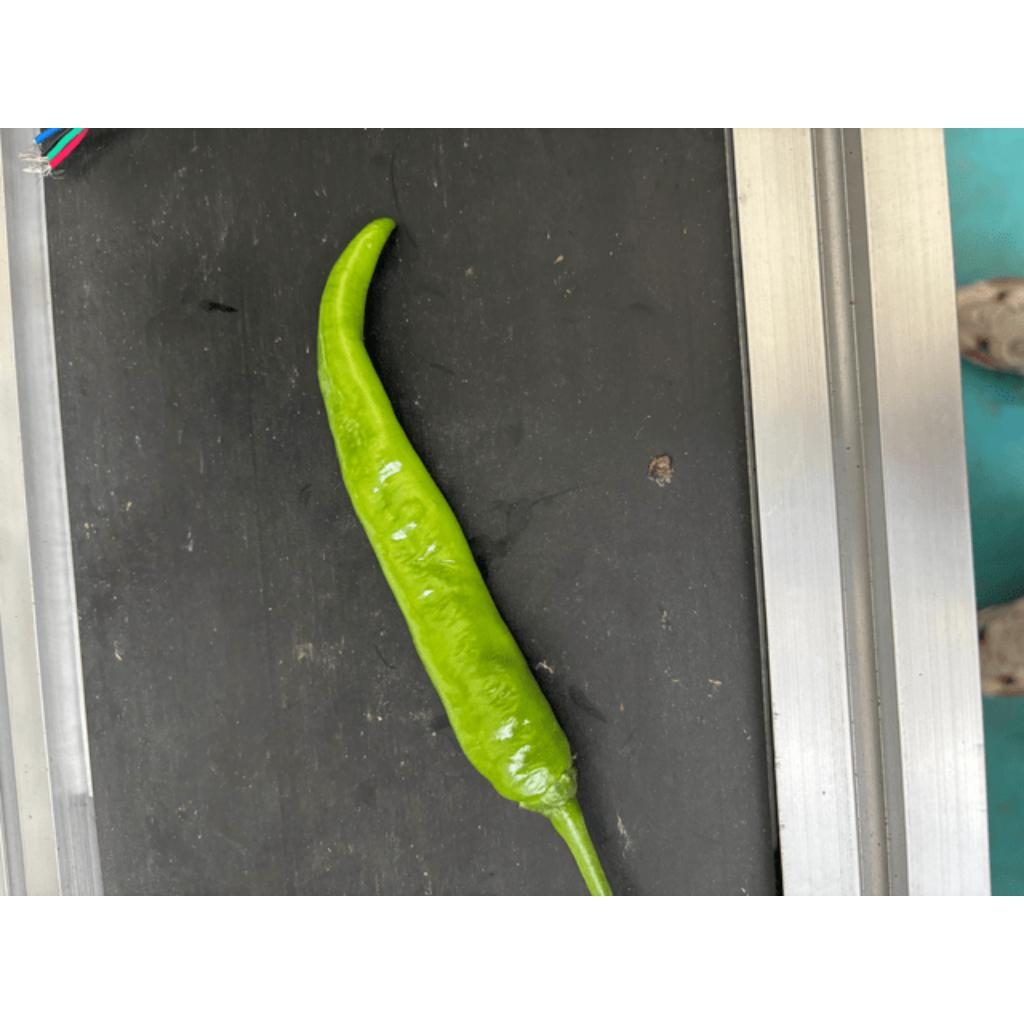chili: (313, 216, 581, 817)
